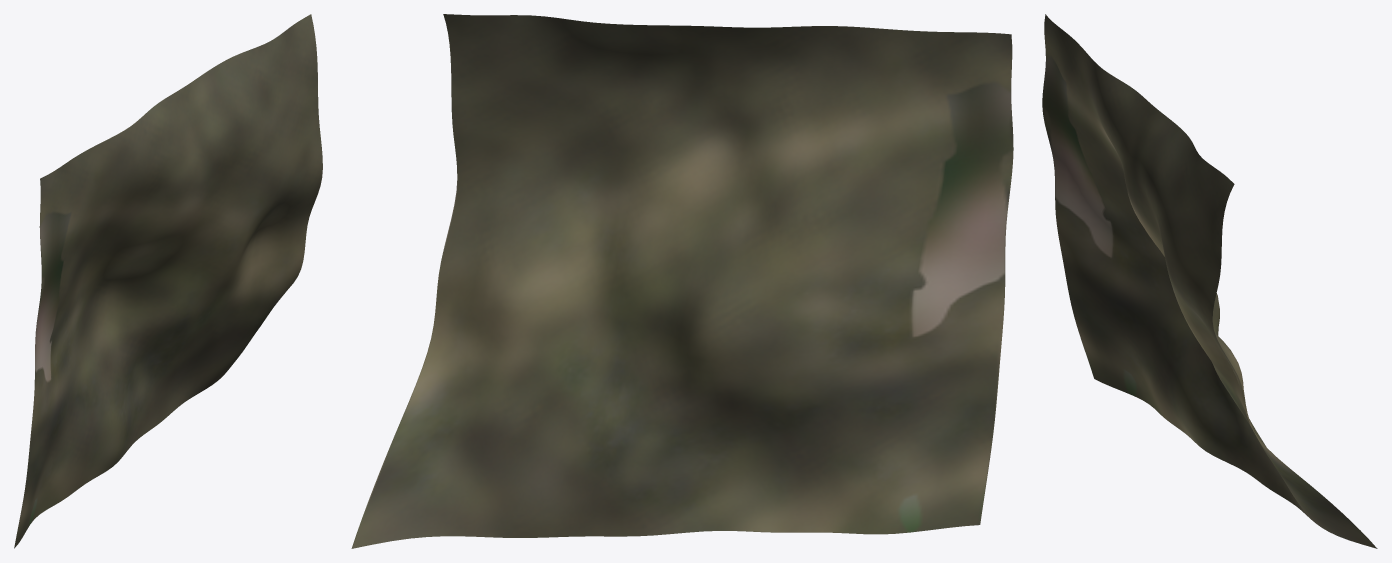
Rendered from ground_mid_00_06.obj.
3 views of the same model, side by side, from view 1: azimuth 30°, elevation 25°; view 2: azimuth 150°, elevation 25°; view 3: azimuth 270°, elevation 25° (orthographic). The views are drawn at different scales.
Parts seen in each view (by area): view 1: ground_mid_00_06; view 2: ground_mid_00_06; view 3: ground_mid_00_06.
Part boxes in pixels (<box>): ground_mid_00_06: <box>14,14,322,548</box>; ground_mid_00_06: <box>351,14,1013,548</box>; ground_mid_00_06: <box>1042,14,1377,548</box>.
Size of the model in its own units: 200 by 200 by 167.
Materials: 1 (1 with a texture image).
